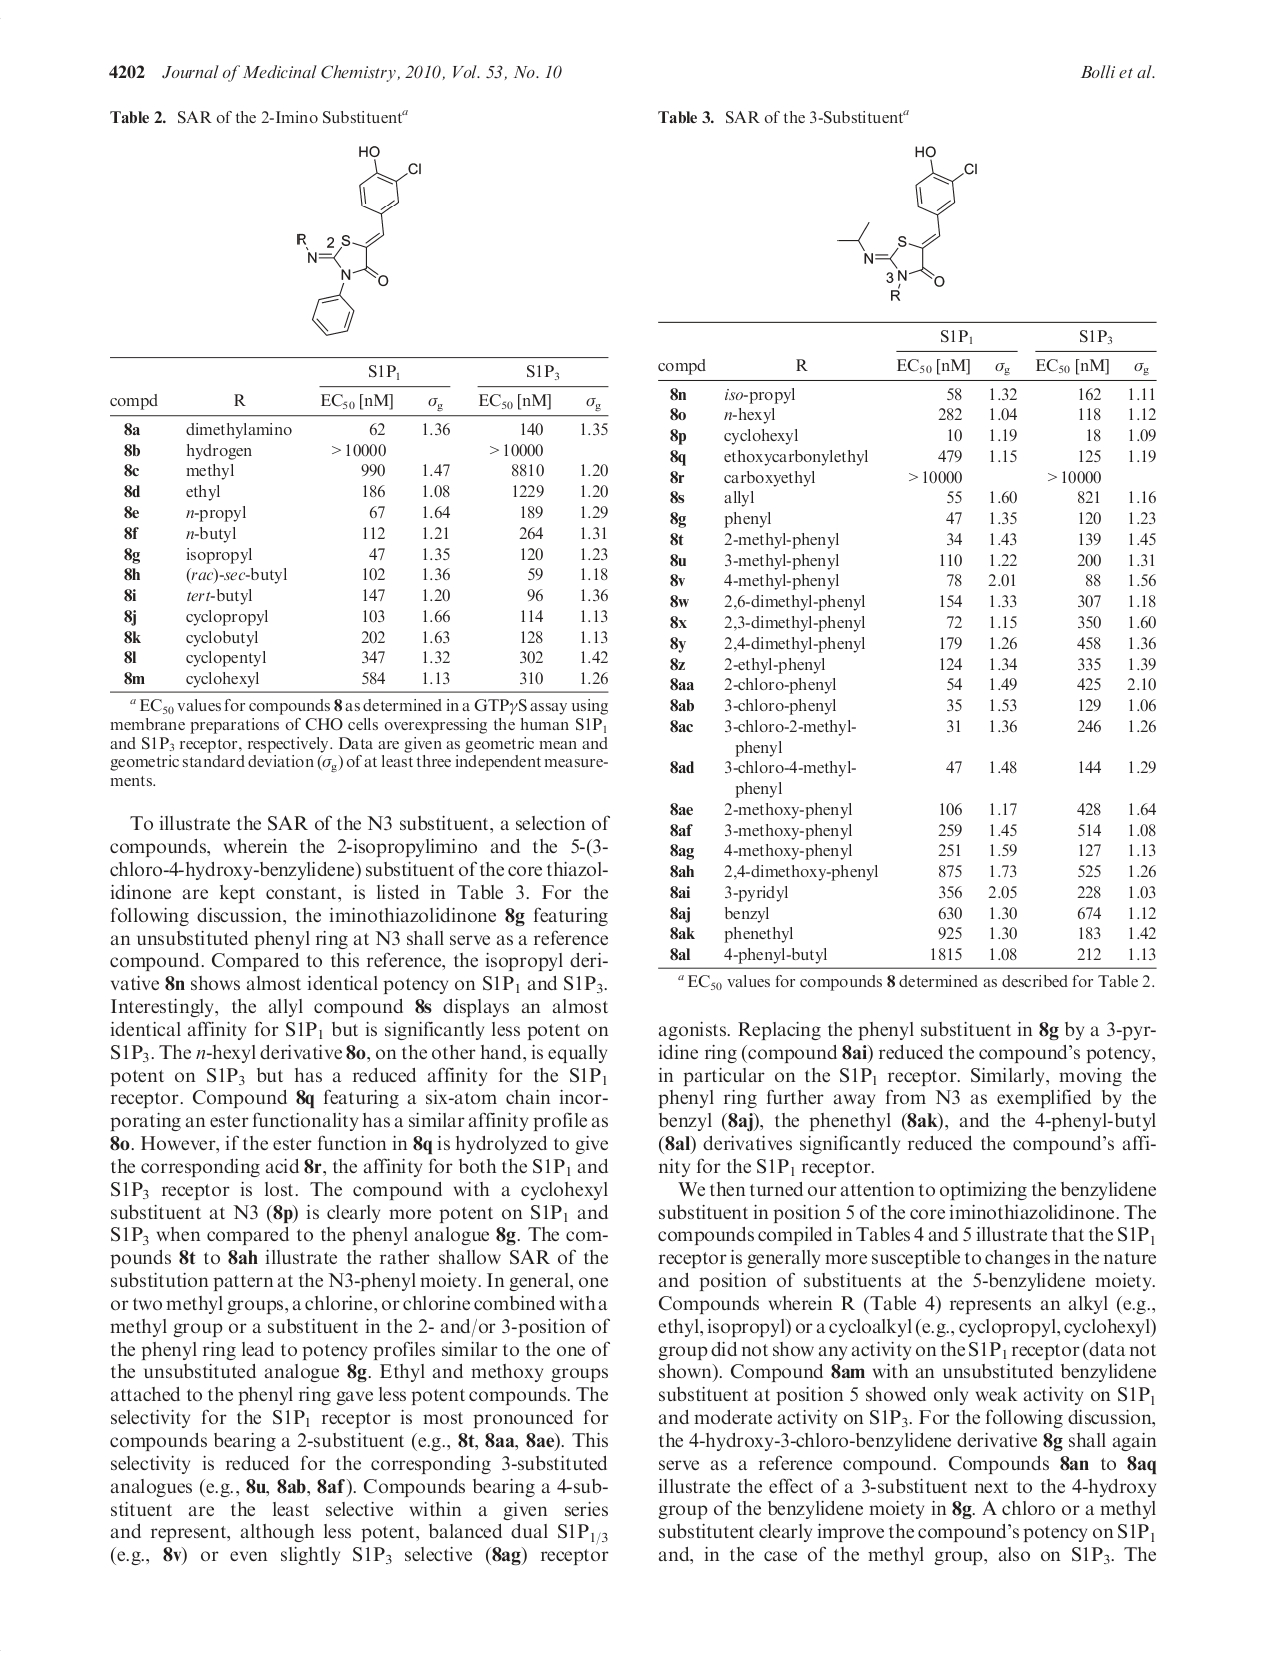exist_molecular: (281, 129, 434, 340), (828, 144, 987, 307)
